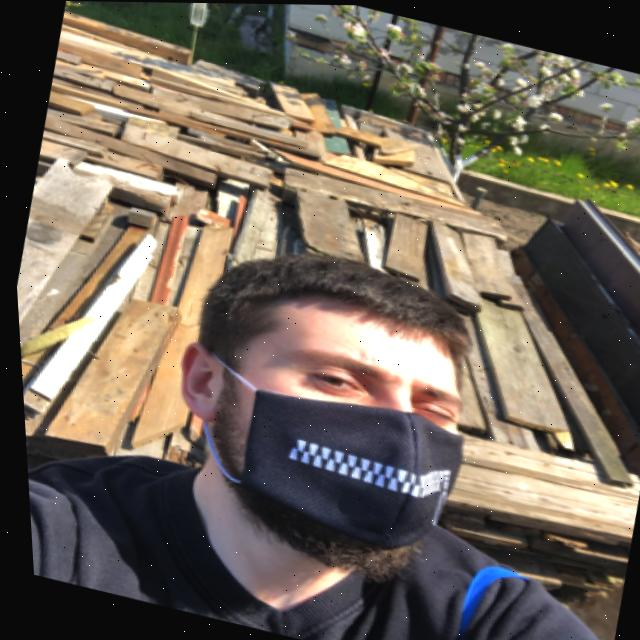Mask: (136, 331, 479, 593)
